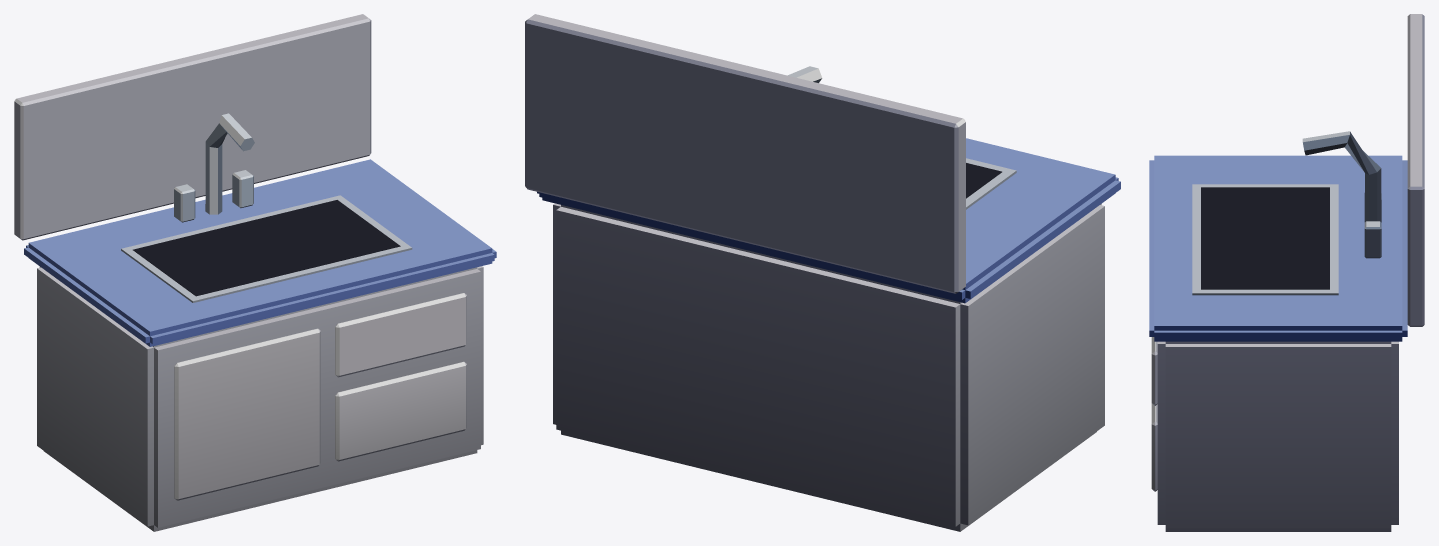
The model's file is sink.glb.
3 views of the same model, side by side, from view 1: azimuth 30°, elevation 25°; view 2: azimuth 150°, elevation 25°; view 3: azimuth 270°, elevation 25° (orthographic). The views are drawn at different scales.
Parts seen in each view (by area): view 1: sink; view 2: sink; view 3: sink.
Part boxes in pixels (<box>): sink: <box>14,14,496,531</box>; sink: <box>525,14,1120,531</box>; sink: <box>1149,14,1424,531</box>.
Size of the model in its own units: 0.96 by 0.9 by 0.64.
